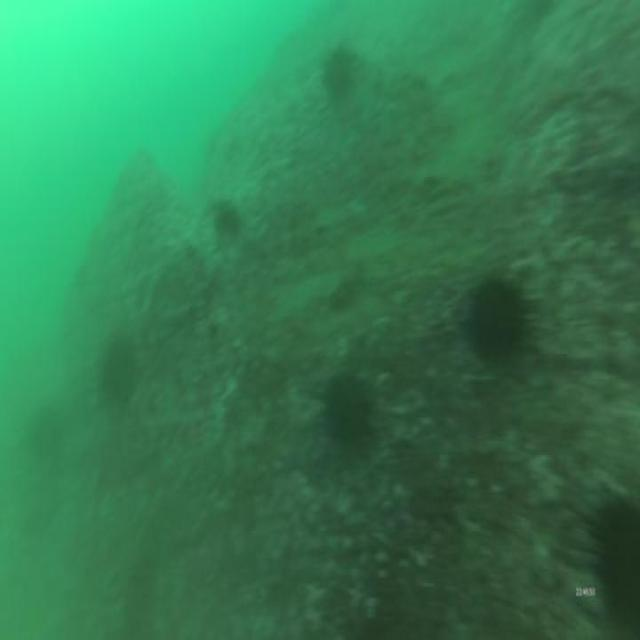echinus: (558, 479, 640, 640), (457, 260, 529, 378), (313, 372, 368, 458), (94, 326, 143, 408), (319, 44, 358, 114), (205, 194, 241, 245)
